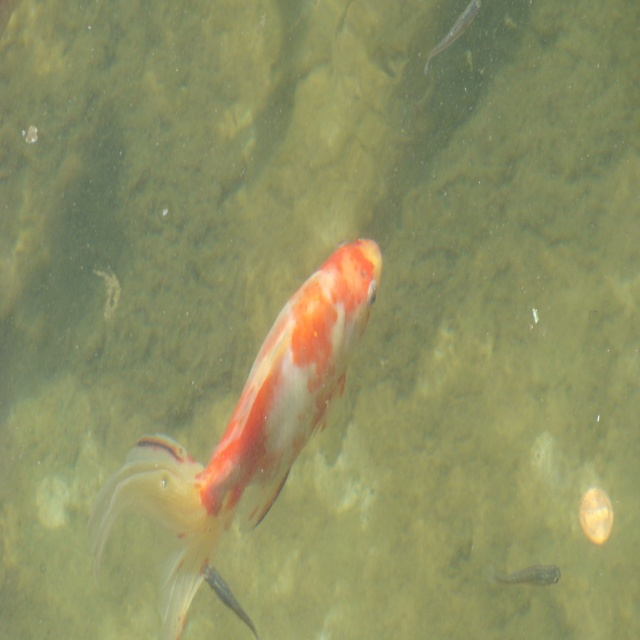Goldfish: (88, 238, 379, 629)
